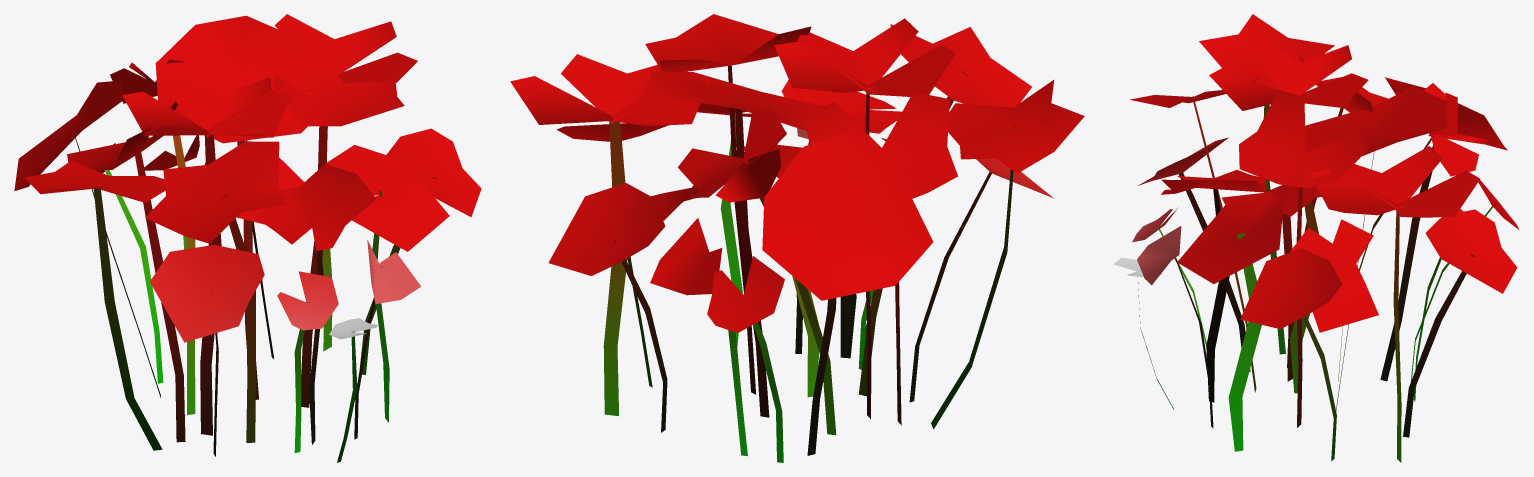
The model's file is Var2_LOD2.fbx.
The picture shows the model from 3 angles, left to right: view 1: azimuth 30°, elevation 25°; view 2: azimuth 150°, elevation 25°; view 3: azimuth 270°, elevation 25°; orthographic projection. The views are drawn at different scales.
Parts seen in each view (by area): view 1: _3e89_Var2_LOD2; view 2: _3e89_Var2_LOD2; view 3: _3e89_Var2_LOD2.
Boxes of the visible parts, x1,y1,x2,y2 form: _3e89_Var2_LOD2: [14, 14, 481, 462]; _3e89_Var2_LOD2: [510, 14, 1084, 462]; _3e89_Var2_LOD2: [1113, 14, 1519, 462].
Bounding box in the file's own units: 28 × 20.49 × 23.59.
